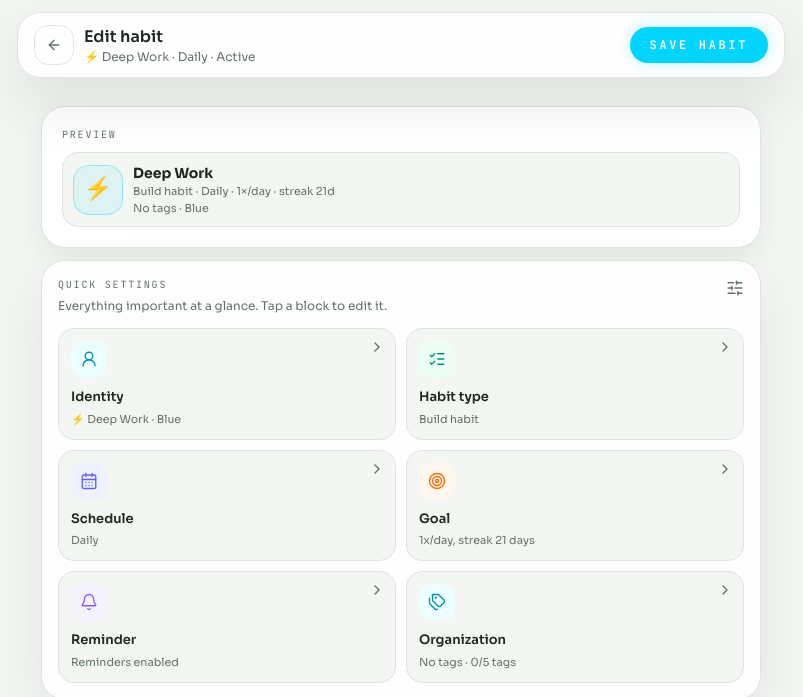
Test case: HabitForm › restores legacy tag and custom icon controls on edit
Click the button with aria-label "Edit Identity".
click(89, 359)  # box [58,328,396,440]
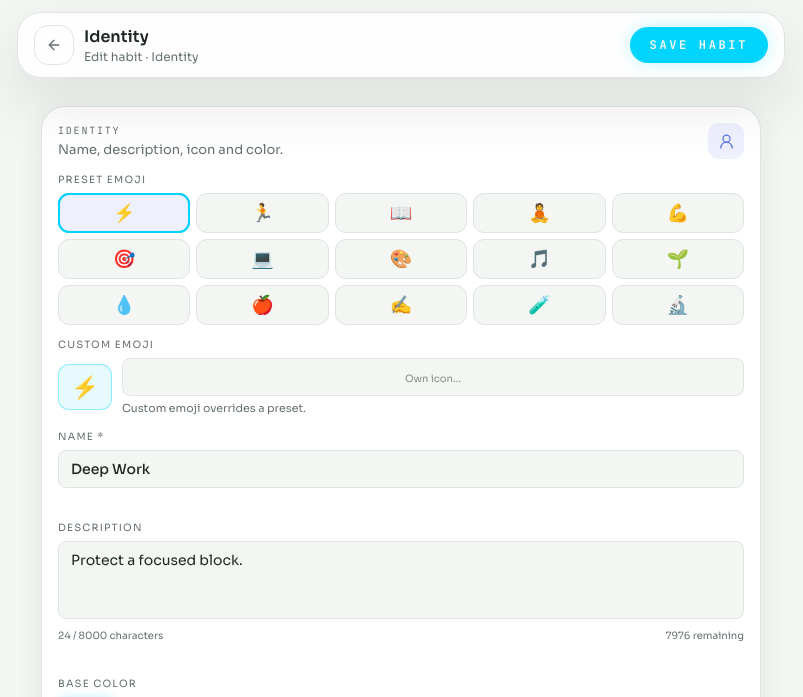
Type "🛰" into the field named "Custom habit icon".
click(433, 377); type("🛰")  # box [122,358,744,396]
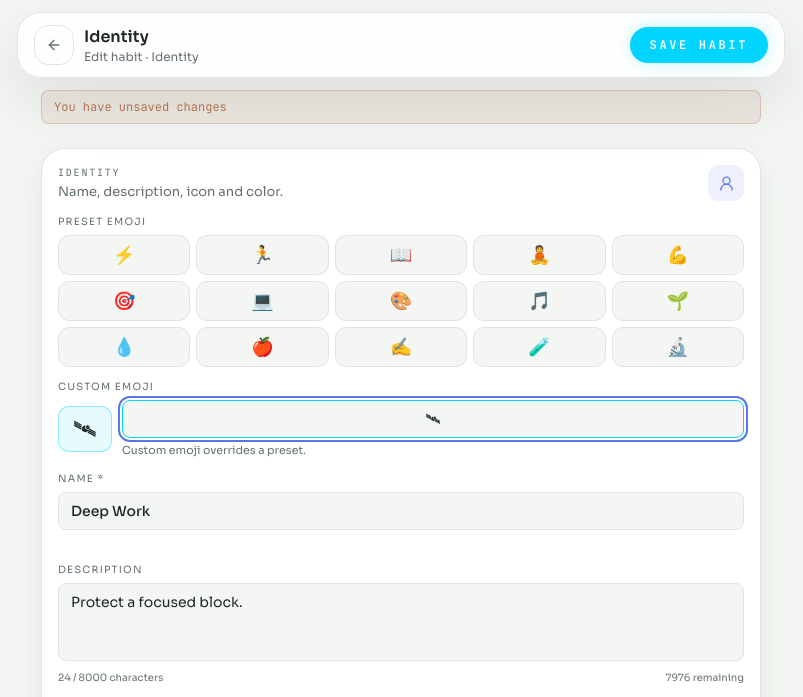
Click the button named "Back to habit editor dashboard".
click(54, 45)  # box [34,25,74,65]
(page scrolled)
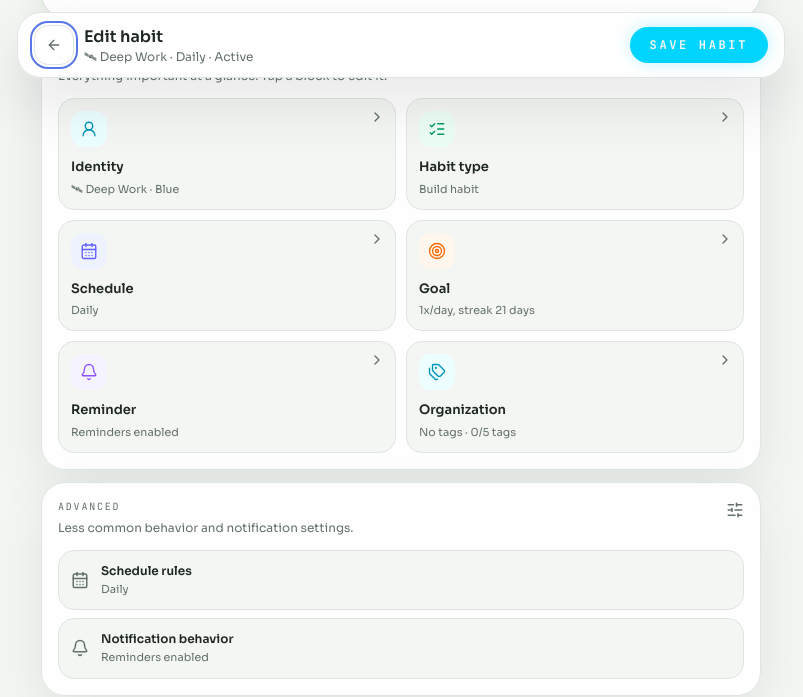
Click the button with aria-label "Edit Organization".
click(437, 372)  # box [406,341,744,452]
(page scrolled)
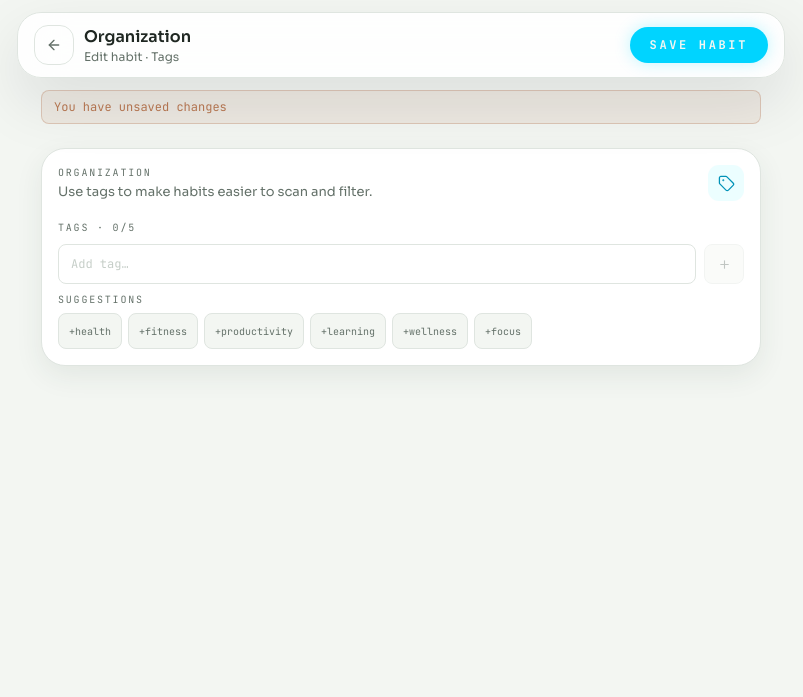
Click the button "+health".
click(90, 331)  # box [58,313,122,349]
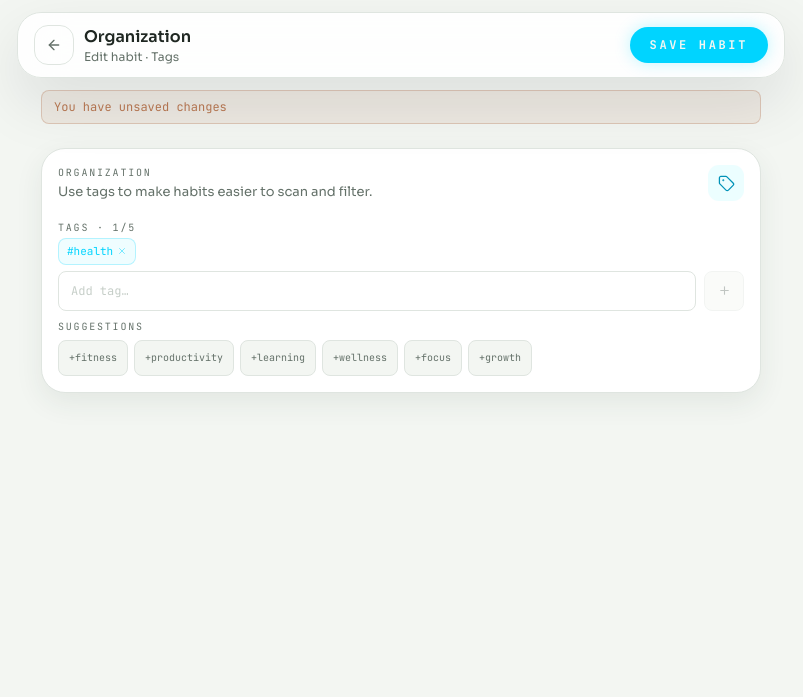
expect the text "#health" is shown: met, box [58,238,136,264]
